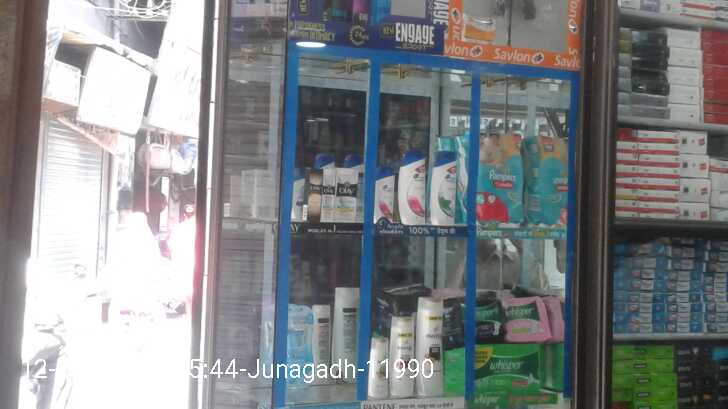venus: (277, 307, 314, 384)
